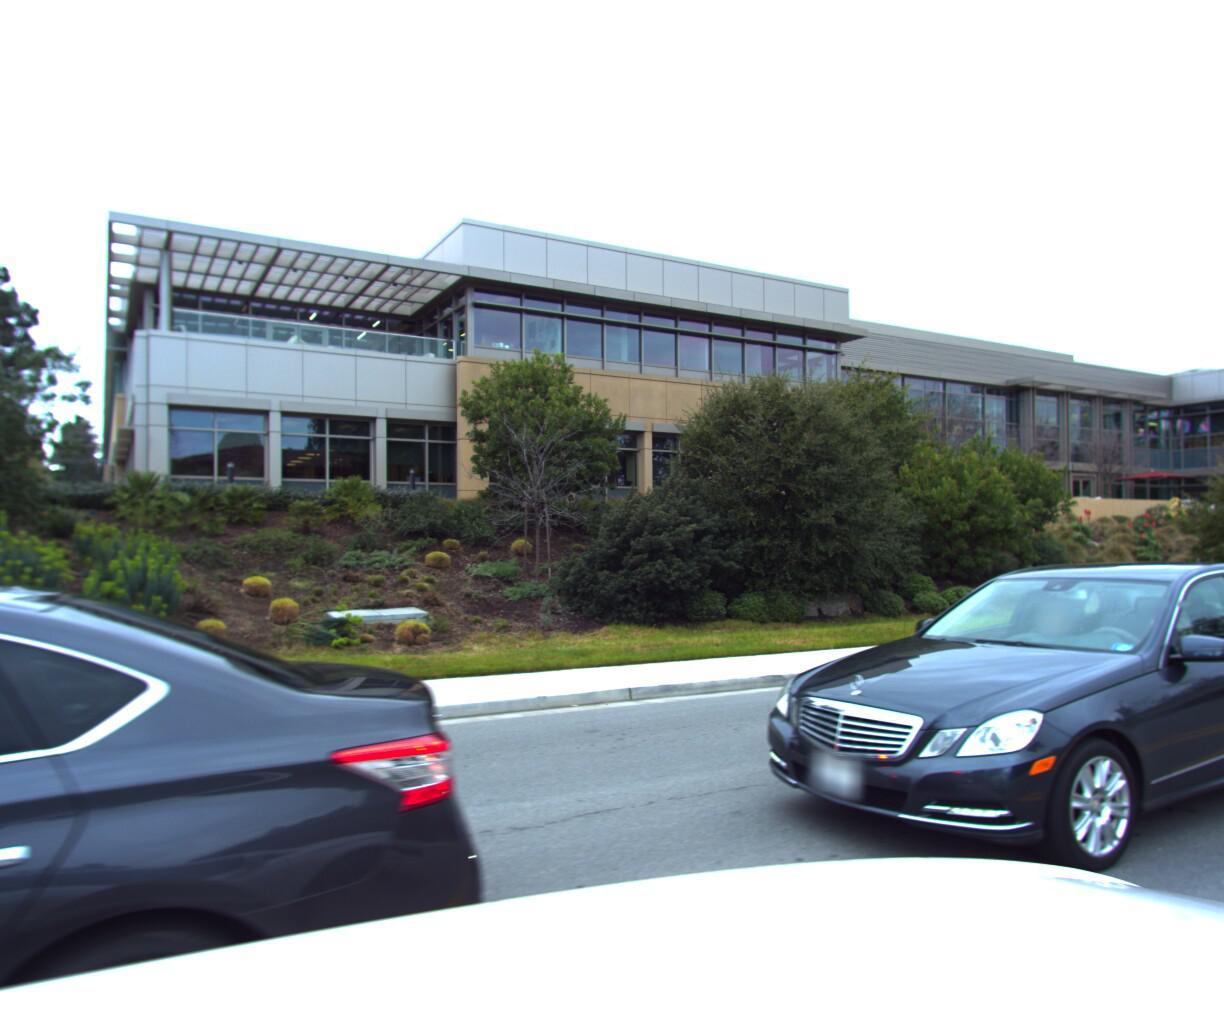car: (0, 556, 517, 1024), (732, 554, 1224, 939)
